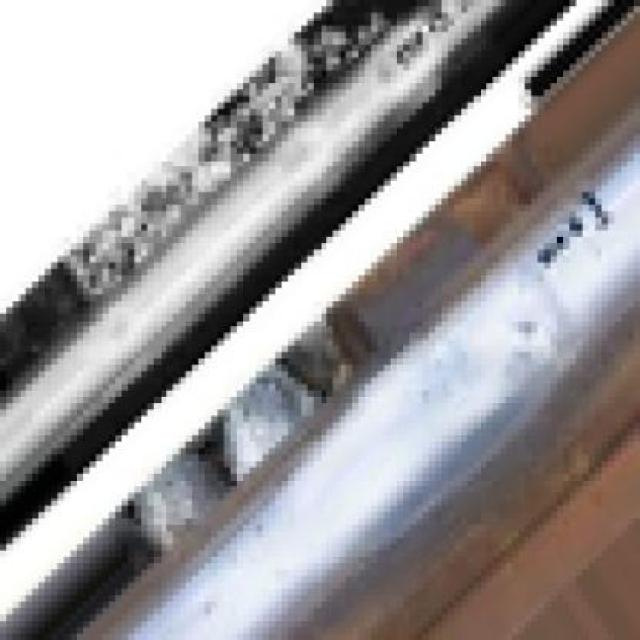defective: (277, 131, 640, 638)
